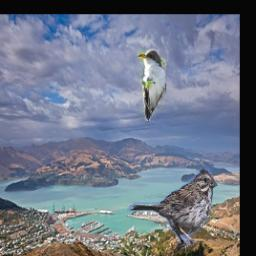Cuckoo: (138, 50, 166, 122)
Sparrow: (128, 166, 219, 251)
